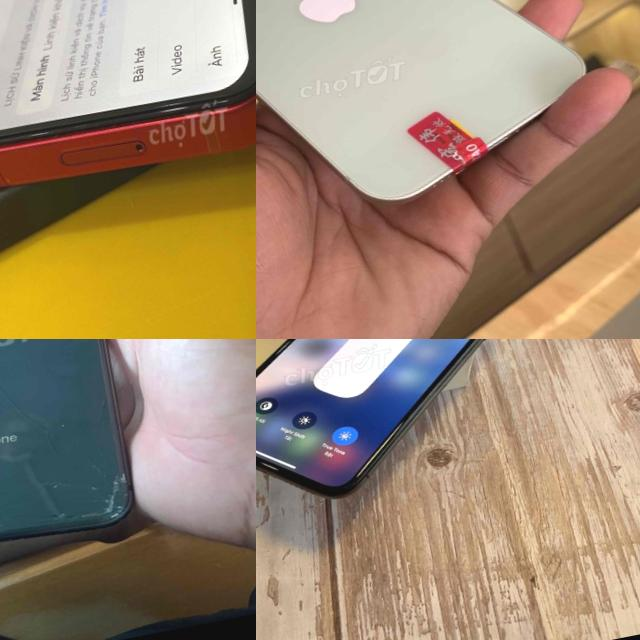gen_12_13: (0, 0, 256, 226)
gen_15: (256, 0, 608, 246)
gen_7_8: (0, 339, 144, 573)
gen_x_xs: (256, 339, 569, 524)
